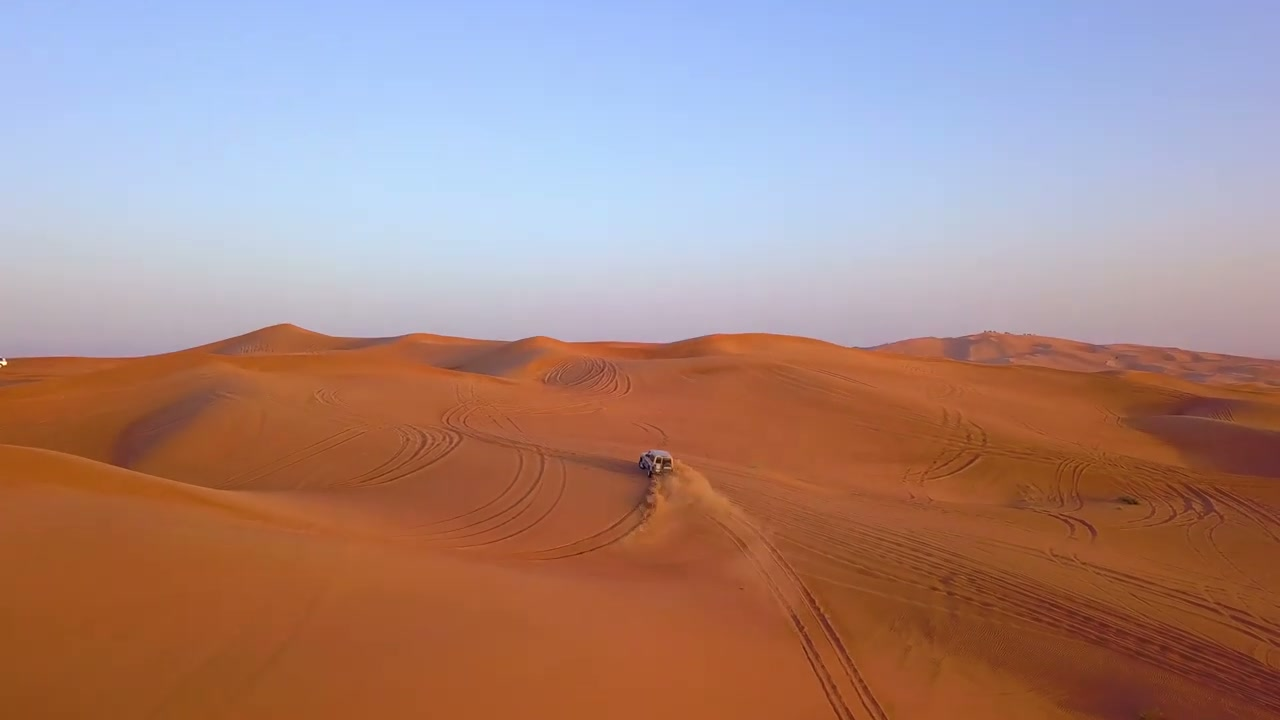vehicle_track: (775, 508, 1279, 711), (707, 513, 886, 719), (451, 458, 567, 548), (219, 426, 368, 488), (344, 424, 460, 486), (904, 407, 988, 484), (543, 355, 631, 397)
